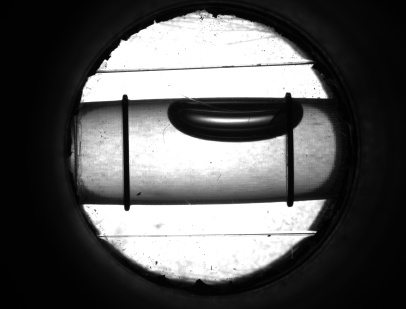line: (118, 112, 134, 189), (280, 137, 300, 187)
